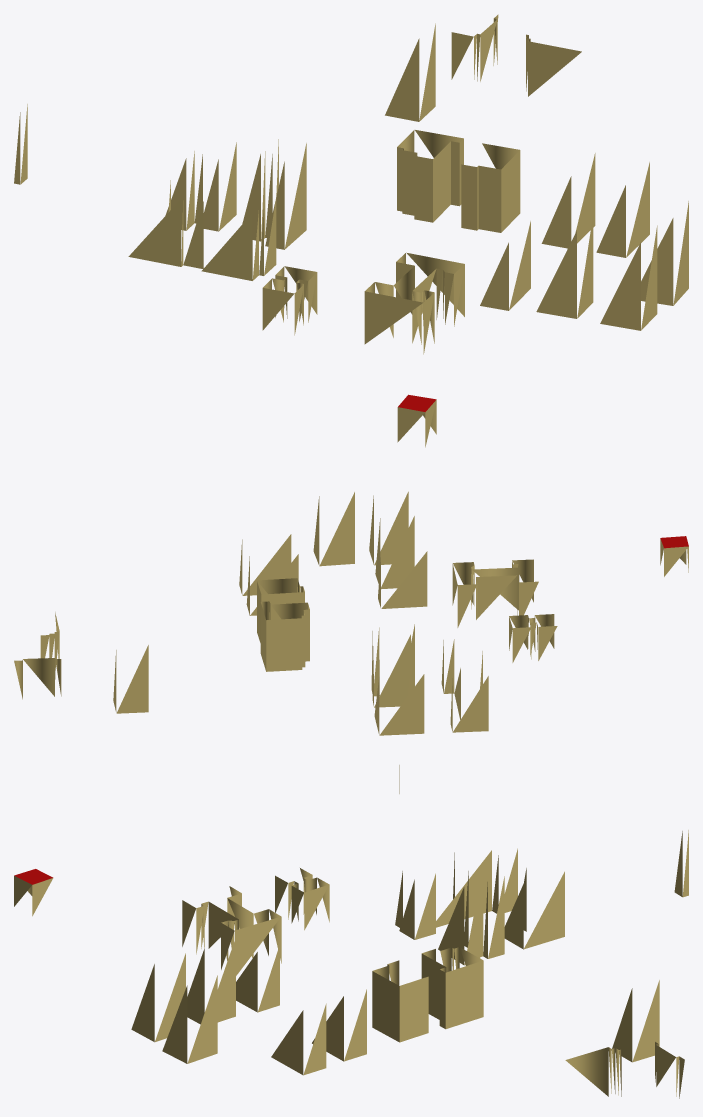
3 renders of one model, top to bottom at view 1: azimuth 30°, elevation 25°; view 2: azimuth 150°, elevation 25°; view 3: azimuth 270°, elevation 25°, orthographic. The views are drawn at different scales.
Size of the model in its own units: 519 by 87.5 by 675.
